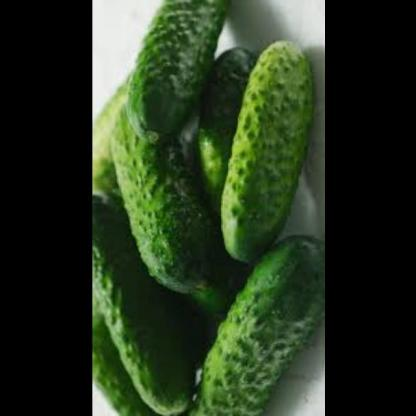cucumber: (186, 242, 324, 416), (213, 31, 312, 266), (91, 186, 190, 416), (110, 112, 221, 293), (119, 0, 226, 161)
